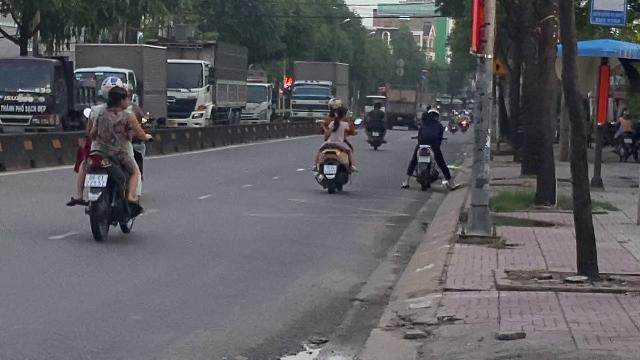helmet: (100, 76, 124, 92)
licenseplate: (85, 174, 107, 187)
motorcyclist: (64, 76, 148, 240)
nohelmet: (105, 85, 129, 109)
